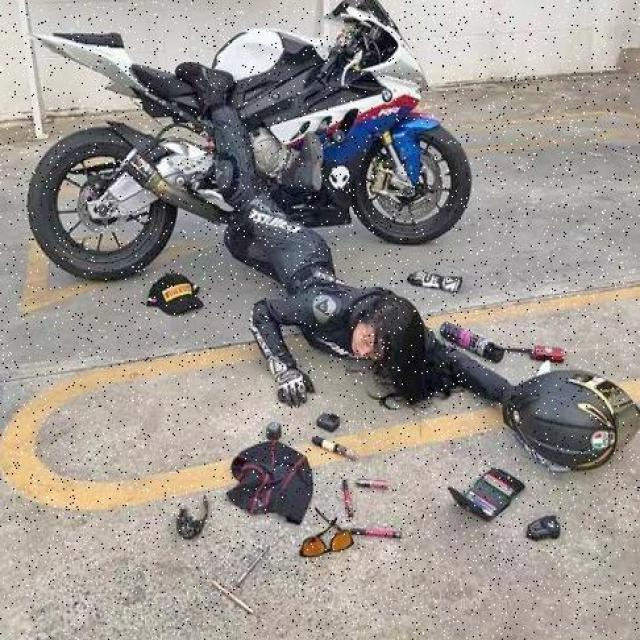fall: (198, 94, 458, 412)
